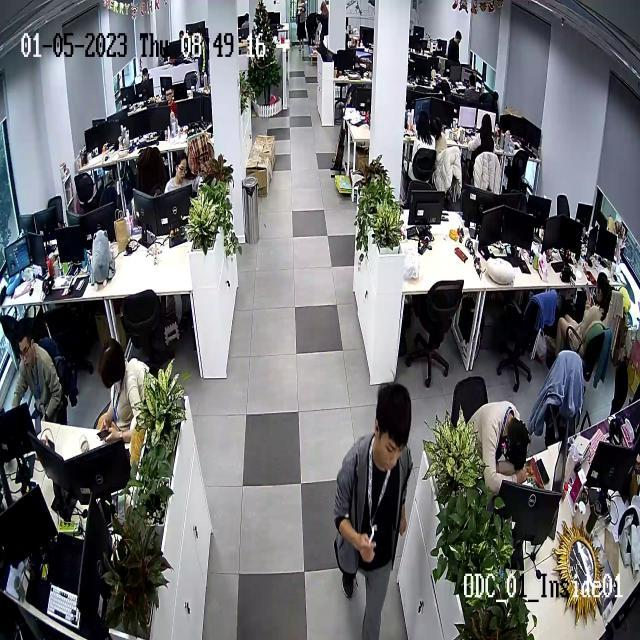person: (333, 383, 414, 640), (6, 322, 66, 425), (94, 339, 151, 447), (468, 400, 532, 480), (556, 273, 613, 360), (472, 112, 499, 167), (164, 150, 193, 193), (415, 112, 437, 164), (446, 29, 462, 78), (164, 82, 179, 118)
